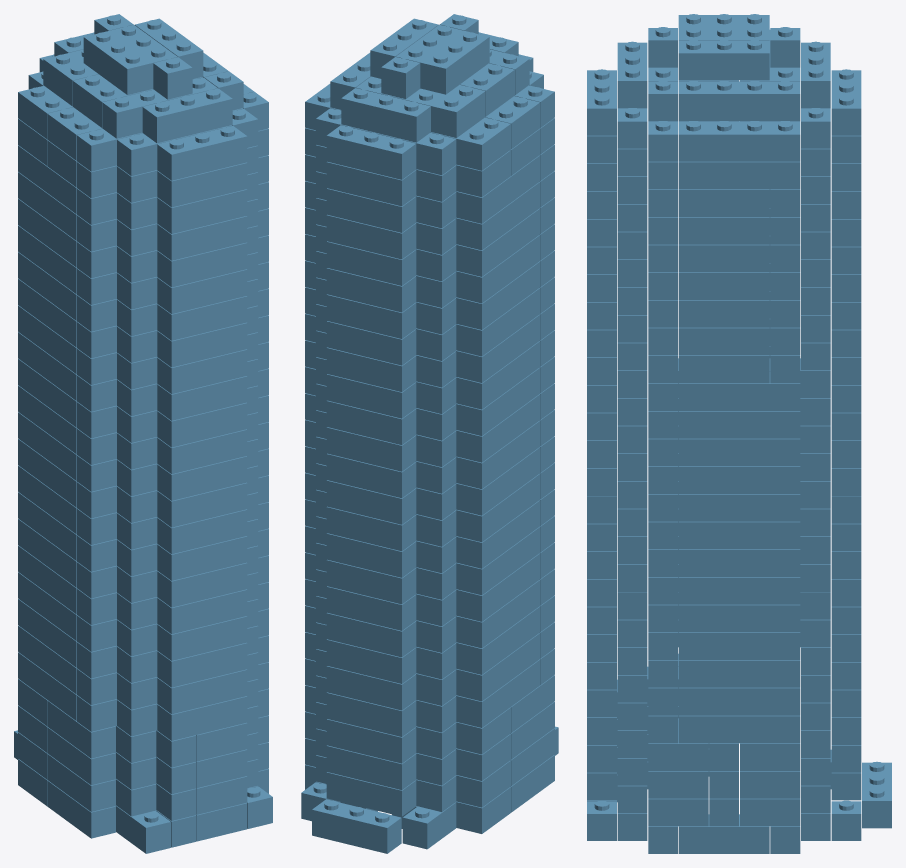
File: 234_tower_L4.glb
3 views of the same model, side by side, from view 1: azimuth 30°, elevation 25°; view 2: azimuth 150°, elevation 25°; view 3: azimuth 270°, elevation 25° (orthographic). The views are drawn at different scales.
Bounding box in the file's own units: 6.98 × 28.13 × 9.98.
